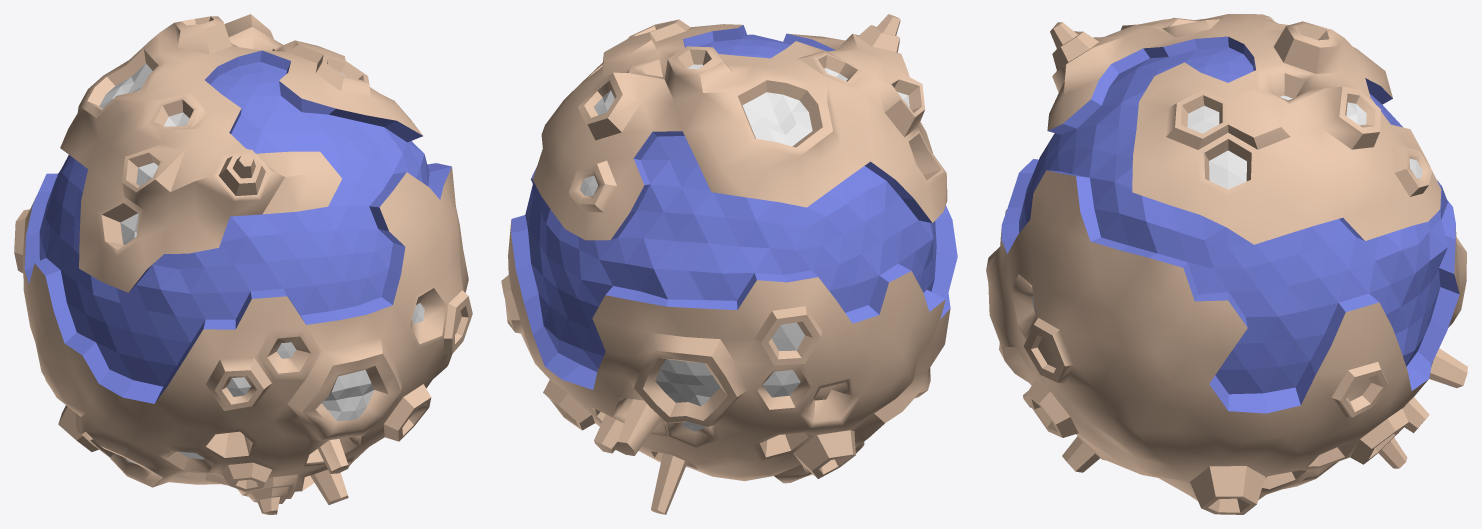
Rendered from planetz.glb.
3 renders of one model, left to right at view 1: azimuth 30°, elevation 25°; view 2: azimuth 150°, elevation 25°; view 3: azimuth 270°, elevation 25°, orthographic. The views are drawn at different scales.
Visible parts, largest first — view 1: Icosphere_2; view 2: Icosphere_2; view 3: Icosphere_2.
Boxes of the visible parts, box(x1,y1,x2,y2) form: Icosphere_2: box(14, 14, 472, 514); Icosphere_2: box(501, 14, 957, 514); Icosphere_2: box(986, 14, 1467, 514).
Size of the model in its own units: 10.02 by 11.04 by 10.52.
